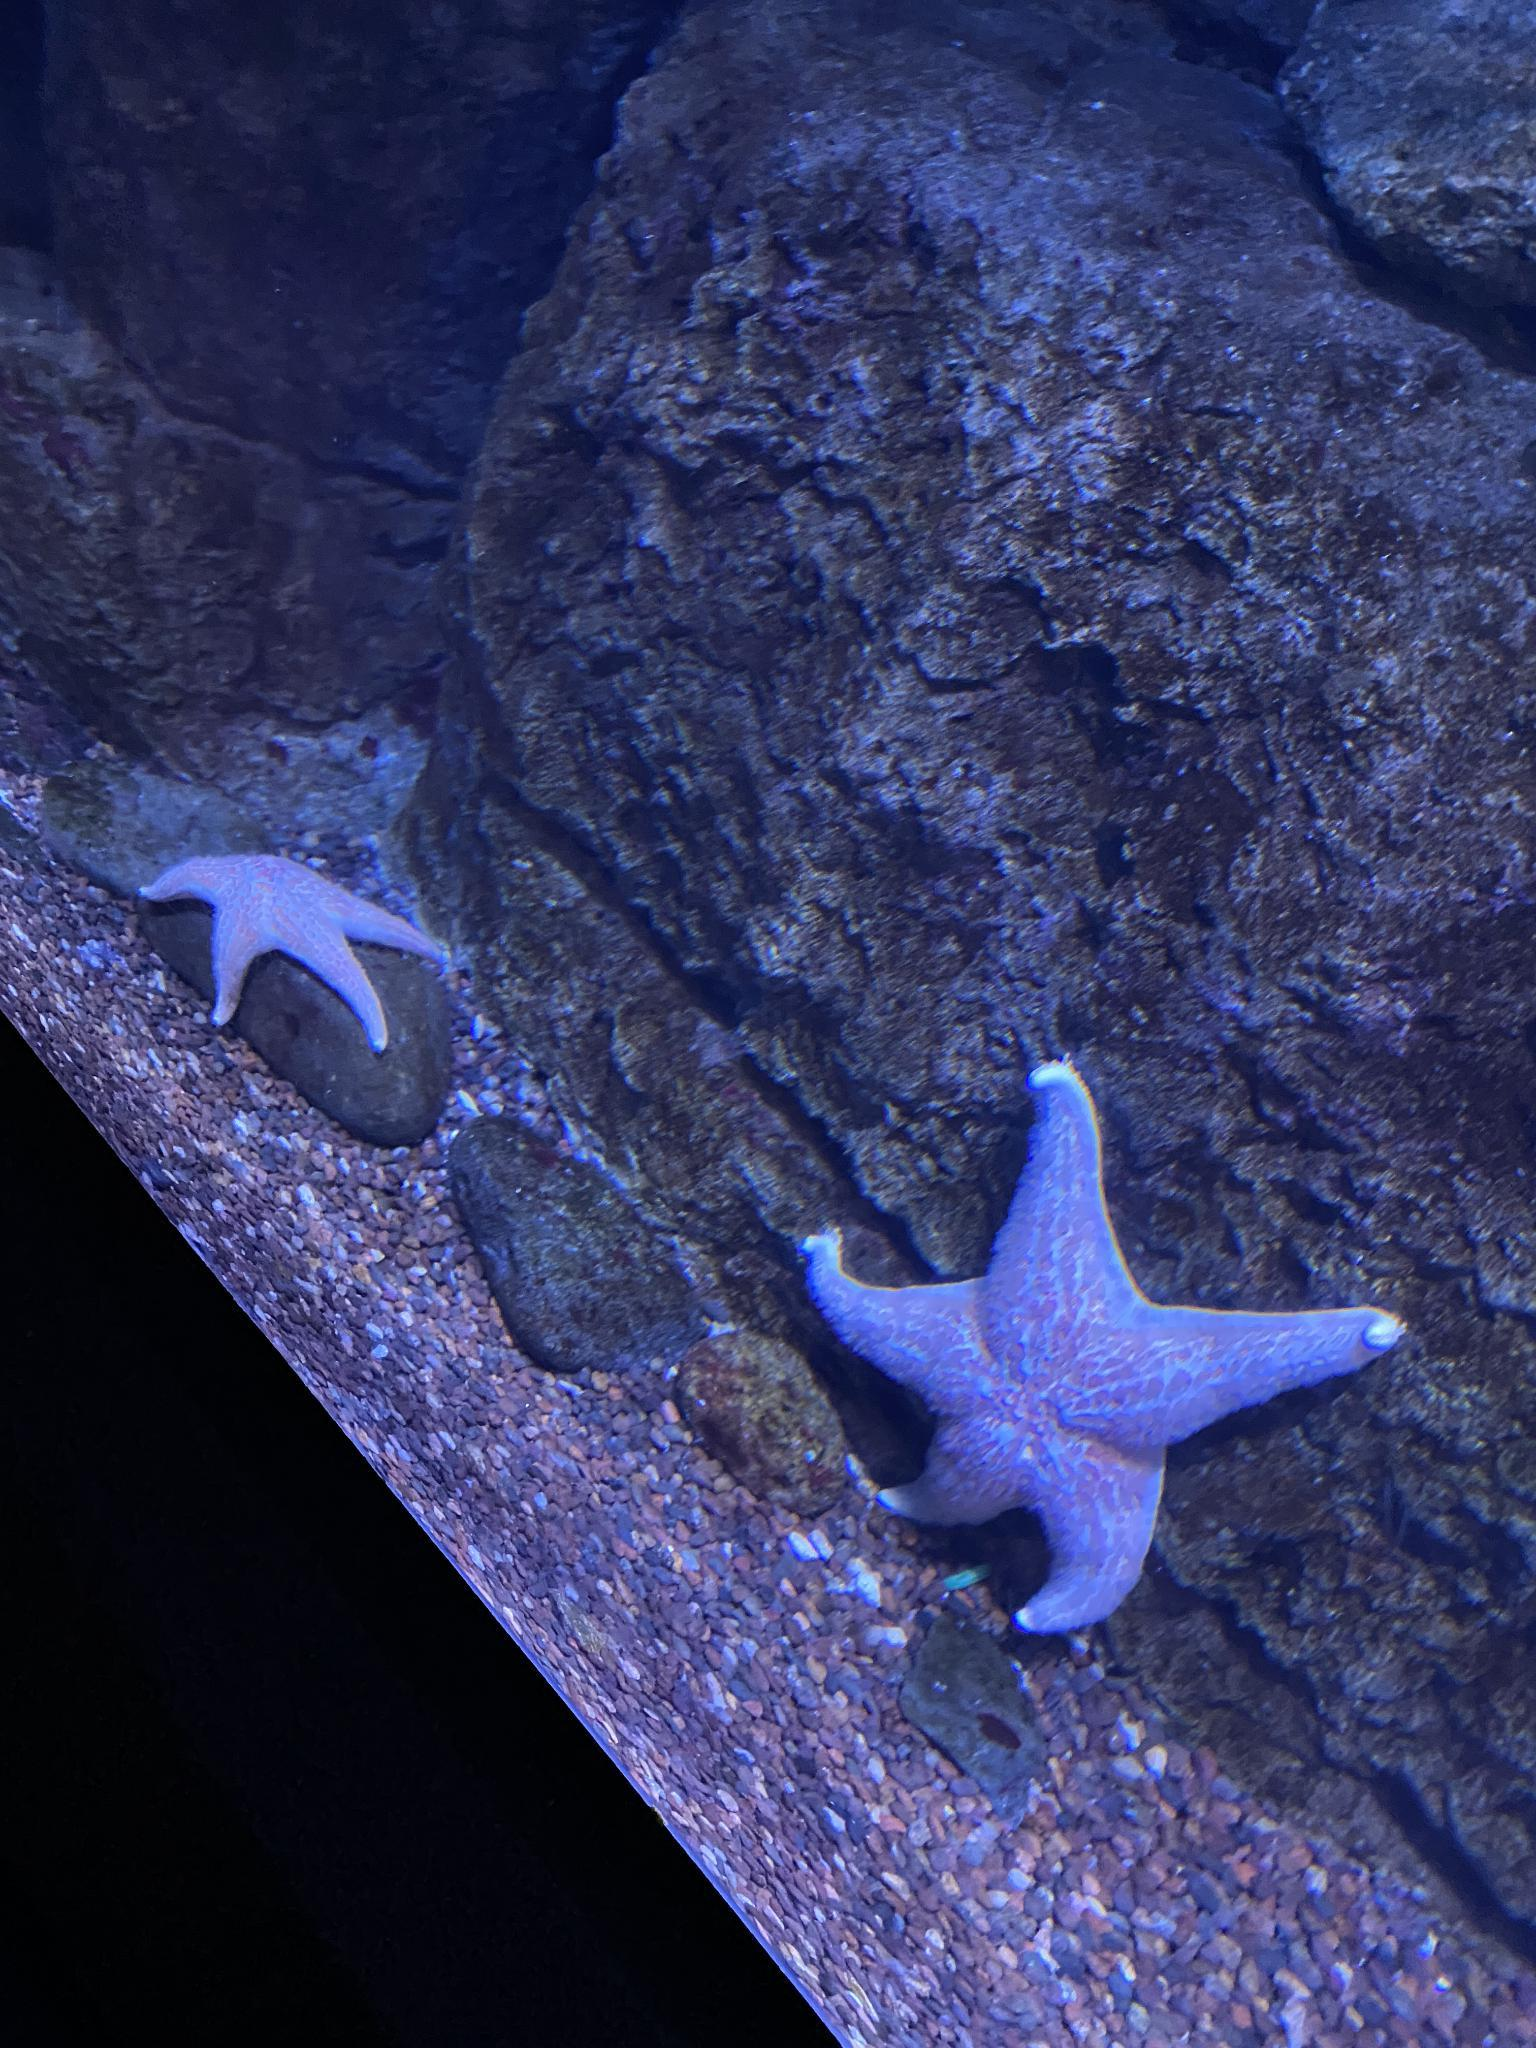starfish: (800, 1061, 1402, 1634), (139, 850, 447, 1056)
